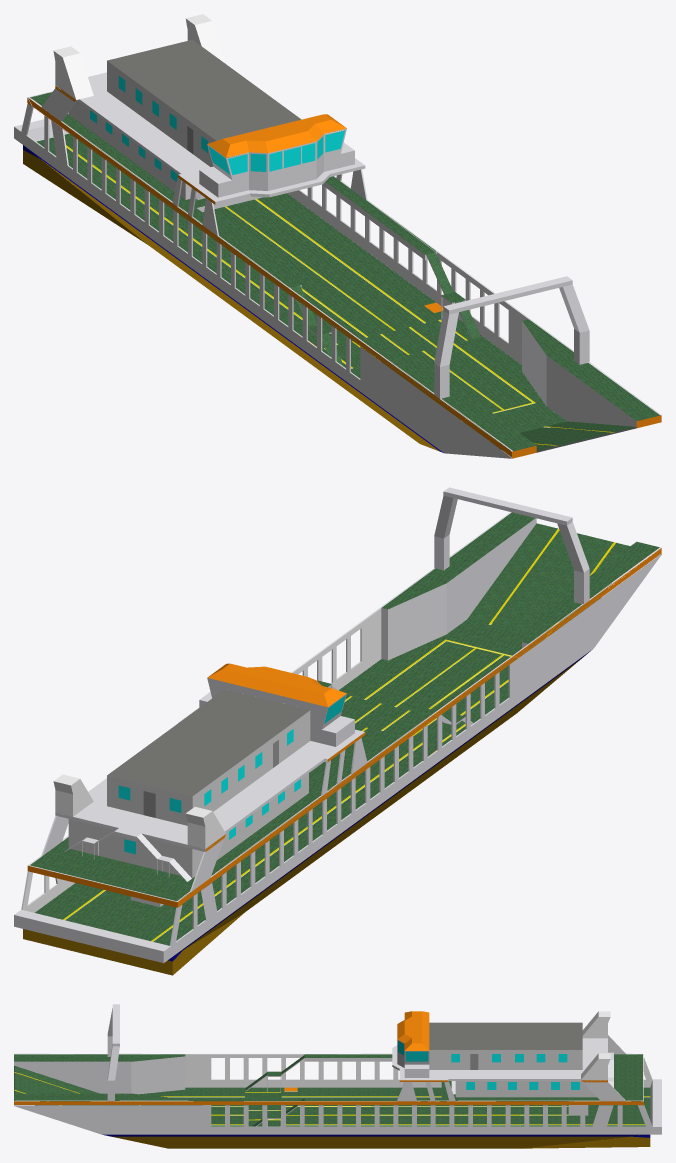
Rendered from lct-ferry.zfix-v14.lod0.glb.
3 renders of one model, top to bottom at view 1: azimuth 30°, elevation 25°; view 2: azimuth 150°, elevation 25°; view 3: azimuth 270°, elevation 25°, orthographic. The views are drawn at different scales.
Parts seen in each view (by area): view 1: Material2 (×3); view 2: Material2 (×3); view 3: Material2 (×3).
Boxes of the visible parts, <box> form: Material2 (×3): <box>14,14,661,458</box>; Material2 (×3): <box>14,487,661,975</box>; Material2 (×3): <box>14,1004,661,1148</box>.
Bounding box in the file's own units: 6.98 × 7.44 × 40.
3 materials, 2 textured.
